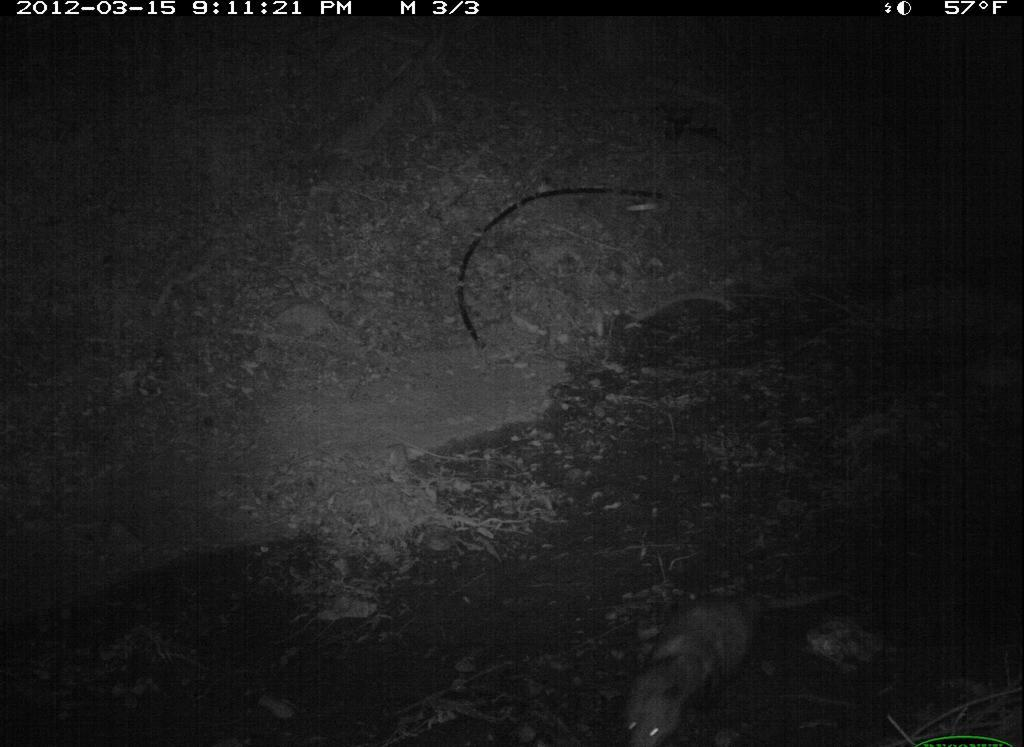opossum: (609, 560, 847, 747)
